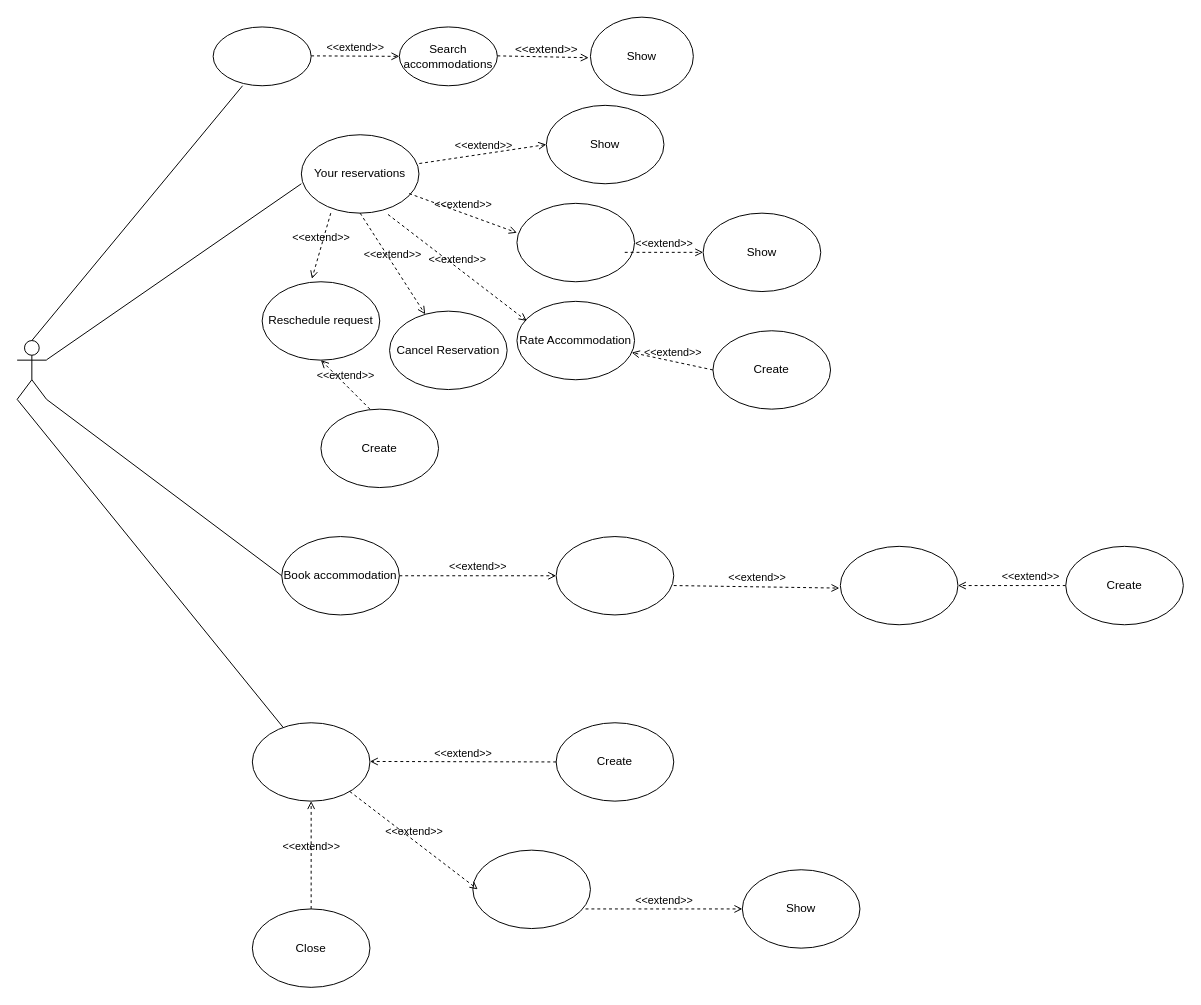
This 1201x1005 diagram has some shape labels left out. The box of each missing label's shape, as (x1, y1, x2, y2) in pixels:
Available Reservations: (555, 536, 674, 615)
Confirm Reservation: (839, 545, 958, 625)
Forum: (251, 722, 370, 801)
Read: (472, 849, 590, 929)
Reschedule requests: (516, 202, 635, 282)
Search: (212, 26, 311, 86)
User: (16, 340, 47, 399)
